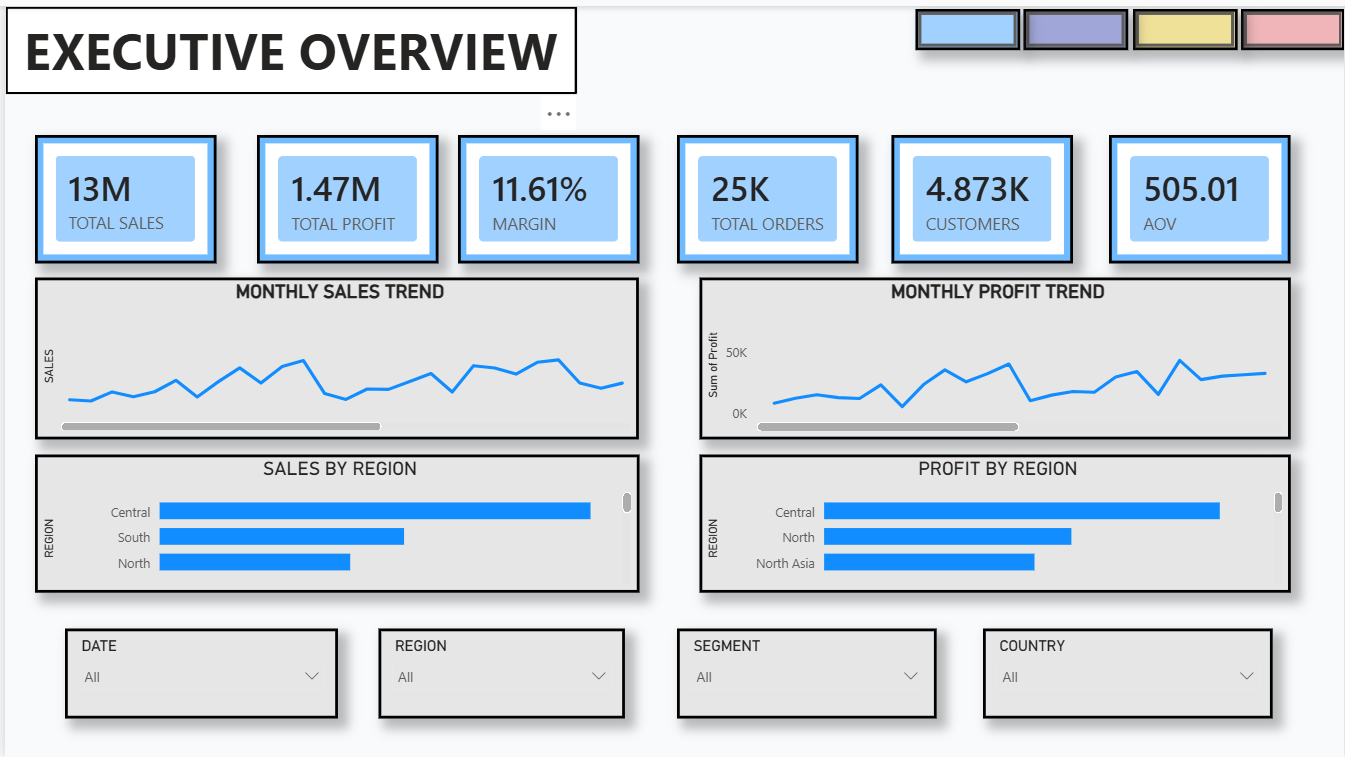

This screenshot's page, from the dashboard's own definition file:
{"tool":"powerbi","page":{"name":"EXECUTIVE OVERVIEW","canvas":[1280,720],"ordinal":0},"visuals":[{"type":"textbox","box":[0,0,546.6,84.8],"z":0},{"type":"cardVisual","fields":{"Data":["MEASURE.TOTAL SALES"]},"box":[28.6,122.5,173.4,122.5],"z":1000},{"type":"cardVisual","fields":{"Data":["MEASURE.TOTAL PROFIT"]},"box":[240.5,122.5,173.4,122.5],"z":2000},{"type":"cardVisual","fields":{"Data":["MEASURE.TOTAL ORDERS"]},"box":[641,122.5,173.4,122.5],"z":3000},{"type":"cardVisual","fields":{"Data":["Count(superstore.Customer.ID)"]},"box":[846.2,122.5,173.4,122.5],"z":4000},{"type":"cardVisual","fields":{"Data":["MEASURE.AOV"]},"box":[1054.6,122.5,173.4,122.5],"z":5000},{"type":"cardVisual","fields":{"Data":["MEASURE.PROFIT MARGIN"]},"box":[432.6,122.5,173.4,122.5],"z":6000},{"type":"lineChart","title":"MONTHLY SALES TREND","fields":{"Y":["Sum(superstore.Sales)"],"Category":["Date Table.Year Month"]},"box":[28.8,258.9,576.9,154.4],"z":7000},{"type":"lineChart","title":"MONTHLY PROFIT TREND","fields":{"Y":["Sum(superstore.Profit)"],"Category":["Date Table.Year Month"]},"box":[663.2,259.3,564.4,154.7],"z":8000},{"type":"barChart","title":"SALES BY REGION","fields":{"Category":["superstore.Region"],"Y":["Sum(superstore.Sales)"]},"box":[28.6,427.9,577.4,132],"z":9000},{"type":"barChart","title":"PROFIT BY REGION","fields":{"Category":["superstore.Region"],"Y":["Sum(superstore.Profit)"]},"box":[663.3,427.9,564.7,132],"z":10000},{"type":"slicer","fields":{"Values":["Date Table.Date"]},"box":[57.3,594.9,260.9,85.9],"z":11000},{"type":"slicer","fields":{"Values":["superstore.Region"]},"box":[356.3,594.9,235.4,85.9],"z":12000},{"type":"slicer","fields":{"Values":["superstore.Category"]},"box":[641,594.9,248.1,85.9],"z":13000},{"type":"slicer","fields":{"Values":["superstore.Country"]},"box":[933.7,594.9,276.8,85.9],"z":14000},{"type":"actionButton","box":[1180.1,3,99.9,39.4],"z":15000},{"type":"actionButton","box":[1077.3,3,99.9,39.4],"z":16000},{"type":"actionButton","box":[972.1,3,99.9,39.4],"z":17000},{"type":"actionButton","title":"EXECUTIVE","box":[869.2,3,99.9,39.4],"z":18000}]}

Visuals, with their boxes in screenshot pixels (x1, y1, x2, y2), scaled from the page's 1280x720 canvas onto the 1345x757 screenshot:
textbox: box(0, 0, 574, 89)
cardVisual - MEASURE.TOTAL SALES: box(30, 129, 212, 258)
cardVisual - MEASURE.TOTAL PROFIT: box(253, 129, 435, 258)
cardVisual - MEASURE.TOTAL ORDERS: box(674, 129, 856, 258)
cardVisual - Count(superstore.Customer.ID): box(889, 129, 1071, 258)
cardVisual - MEASURE.AOV: box(1108, 129, 1290, 258)
cardVisual - MEASURE.PROFIT MARGIN: box(455, 129, 637, 258)
"MONTHLY SALES TREND" lineChart: box(30, 272, 636, 435)
"MONTHLY PROFIT TREND" lineChart: box(697, 273, 1290, 435)
"SALES BY REGION" barChart: box(30, 450, 637, 589)
"PROFIT BY REGION" barChart: box(697, 450, 1290, 589)
slicer - Date Table.Date: box(60, 625, 334, 716)
slicer - superstore.Region: box(374, 625, 622, 716)
slicer - superstore.Category: box(674, 625, 934, 716)
slicer - superstore.Country: box(981, 625, 1272, 716)
actionButton: box(1240, 3, 1344, 45)
actionButton: box(1132, 3, 1237, 45)
actionButton: box(1021, 3, 1126, 45)
"EXECUTIVE" actionButton: box(913, 3, 1018, 45)
